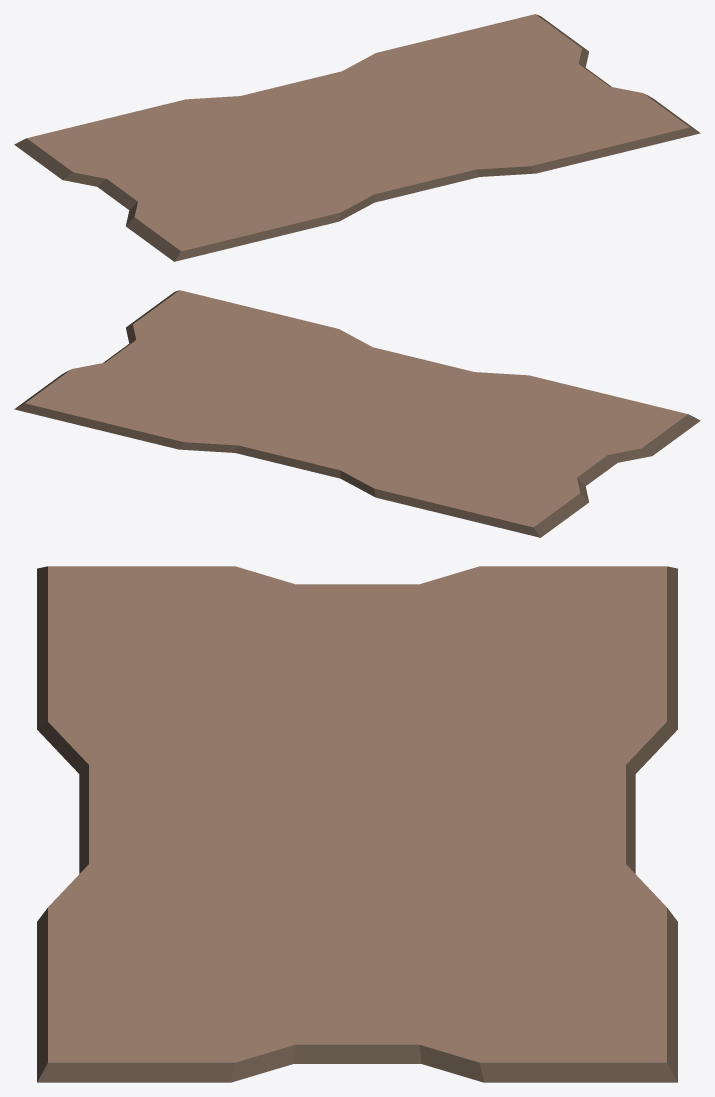
Rendered from SM_Carpet.glb.
The picture shows the model from 3 angles, top to bottom: view 1: azimuth 30°, elevation 25°; view 2: azimuth 150°, elevation 25°; view 3: azimuth 270°, elevation 25°; orthographic projection. The views are drawn at different scales.
Visible parts, largest first — view 1: SM_Carpet; view 2: SM_Carpet; view 3: SM_Carpet.
Part boxes in pixels (x1=…): SM_Carpet: x1=14, y1=14, x2=700, y2=261; SM_Carpet: x1=14, y1=290, x2=700, y2=537; SM_Carpet: x1=37, y1=566, x2=677, y2=1082.
Size of the model in its own units: 2.42 by 0.0263 by 1.27.
Materials: 1 (1 with a texture image).
